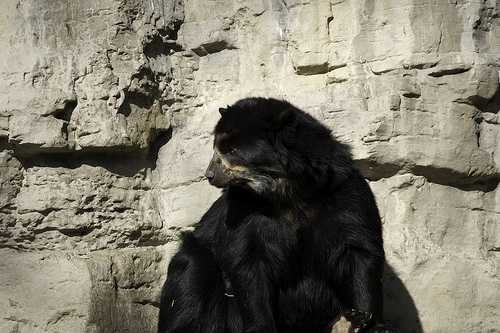bear: (193, 86, 321, 214)
